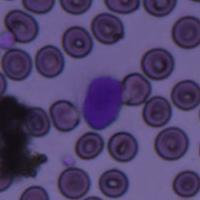L: (80, 73, 125, 130)
